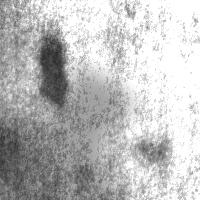patches: (0, 67, 144, 200), (108, 107, 200, 199), (0, 27, 68, 117), (38, 34, 69, 109)
